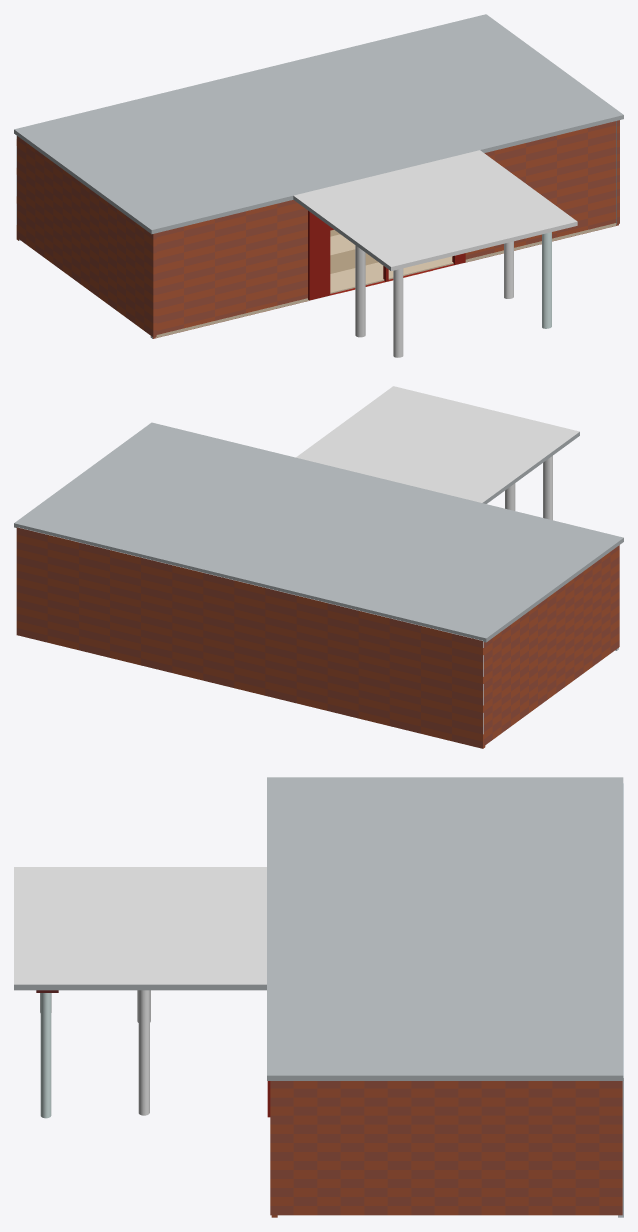
The model's file is museo2.glb.
3 renders of one model, top to bottom at view 1: azimuth 30°, elevation 25°; view 2: azimuth 150°, elevation 25°; view 3: azimuth 270°, elevation 25°, orthographic. The views are drawn at different scales.
Parts seen in each view (by area): view 1: Cubo.004, Cubo.002, Cubo.001, Cube, Cube.001, Cilindro.001, Cilindro.002, Cilindro.003, Cilindro; view 2: Cubo.004, Cubo, Cubo.001, Cilindro.002; view 3: Cubo.004, Cubo.003, Cilindro, Cilindro.003.
Part boxes in pixels (box(x1,y1,x2,y2)): Cubo.004: box(14, 14, 623, 271); Cubo.002: box(150, 121, 618, 338); Cubo.001: box(17, 136, 156, 337); Cube: box(155, 223, 616, 337); Cube.001: box(308, 210, 465, 300); Cilindro.001: box(355, 245, 365, 337); Cilindro.002: box(393, 268, 403, 357); Cilindro.003: box(542, 232, 551, 328); Cilindro: box(504, 241, 513, 298); Cubo.004: box(14, 386, 623, 642); Cubo: box(16, 527, 485, 748); Cubo.001: box(483, 545, 619, 745); Cilindro.002: box(543, 456, 552, 520); Cubo.004: box(14, 777, 623, 1080); Cubo.003: box(270, 1081, 622, 1215); Cilindro: box(138, 990, 149, 1115); Cilindro.003: box(40, 993, 51, 1118).
Size of what is drawn, in the model's own units: 16.4 by 3.68 by 14.18.
